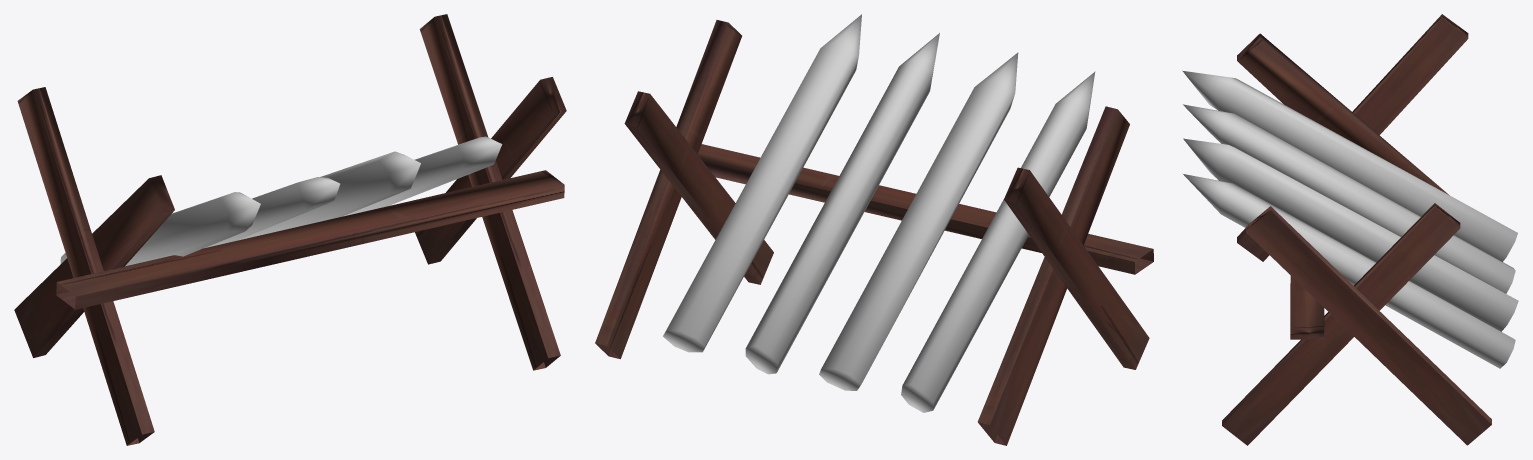
File: Barricade.fbx
The picture shows the model from 3 angles, left to right: view 1: azimuth 30°, elevation 25°; view 2: azimuth 150°, elevation 25°; view 3: azimuth 270°, elevation 25°; orthographic projection. The views are drawn at different scales.
Visible parts, largest first — view 1: Broken Bridge.001; view 2: Broken Bridge.001; view 3: Broken Bridge.001.
Part boxes in pixels (left/top/right/bottom): Broken Bridge.001: left=14, top=14, right=566, bottom=445; Broken Bridge.001: left=595, top=14, right=1153, bottom=445; Broken Bridge.001: left=1182, top=14, right=1518, bottom=445.
Bounding box in the file's own units: 95370 × 55100 × 64771.
